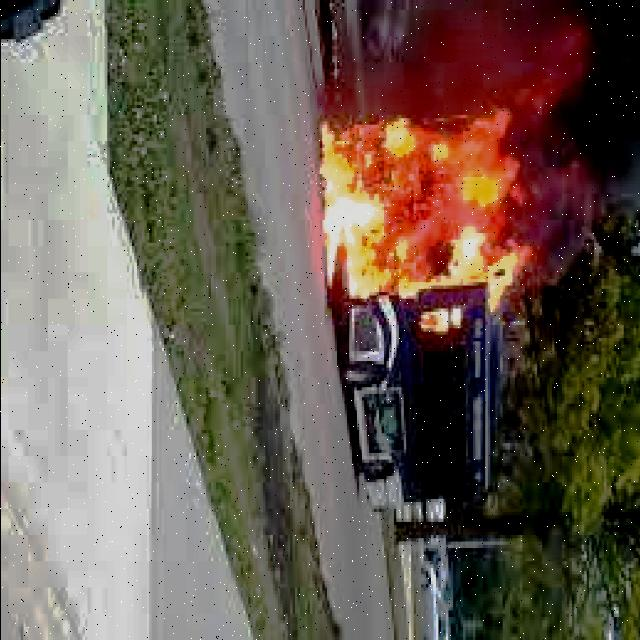api: (320, 83, 550, 329)
